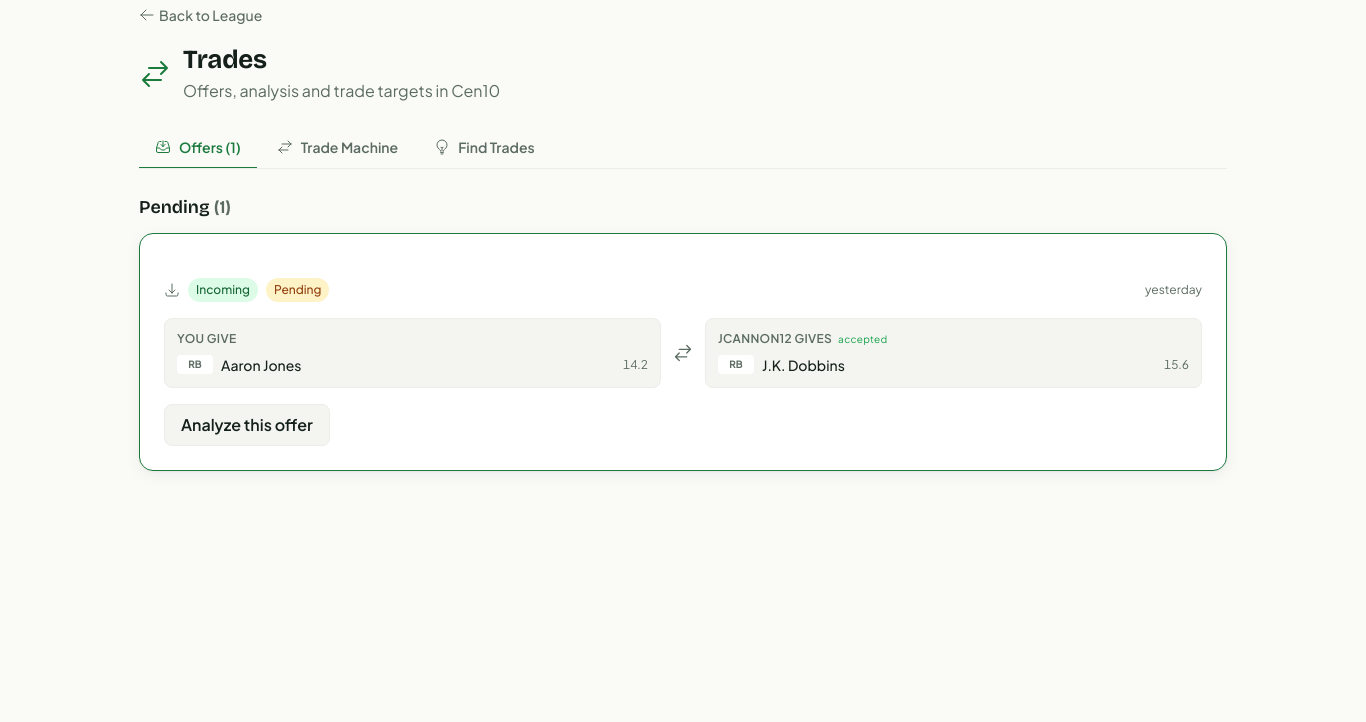
Counter-offers › labels how big an ask each counter is
Click the button "Analyze this offer". click: (247, 425)
box: 164,404 -> 330,446
(page scrolled)
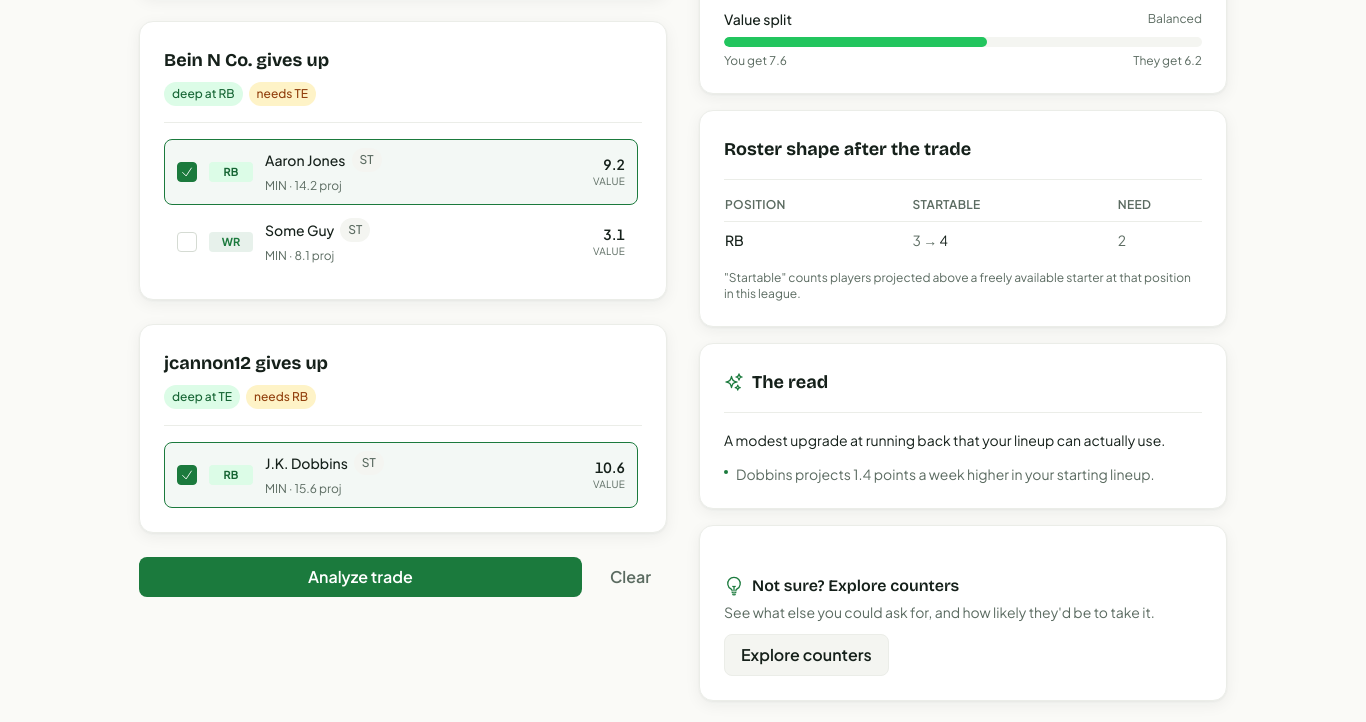
Click the button "Explore counters". click: (806, 655)
box: 724,634 -> 889,676
(page scrolled)
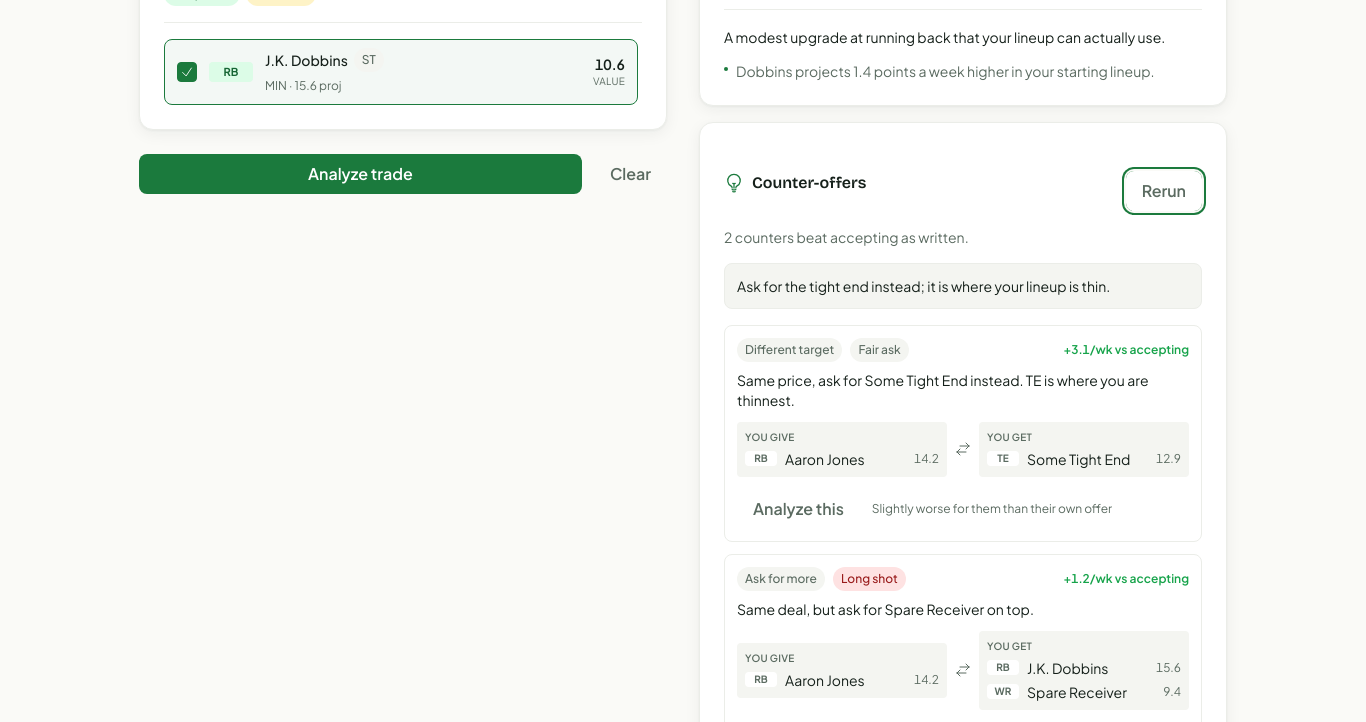
Expected: the text "Fair ask" is shown, 850,338 -> 909,362
Expected: the text "Long shot" is shown, 833,567 -> 906,591
Expected: the text "+3.1/wk vs accepting" is shown, 1064,342 -> 1189,358
